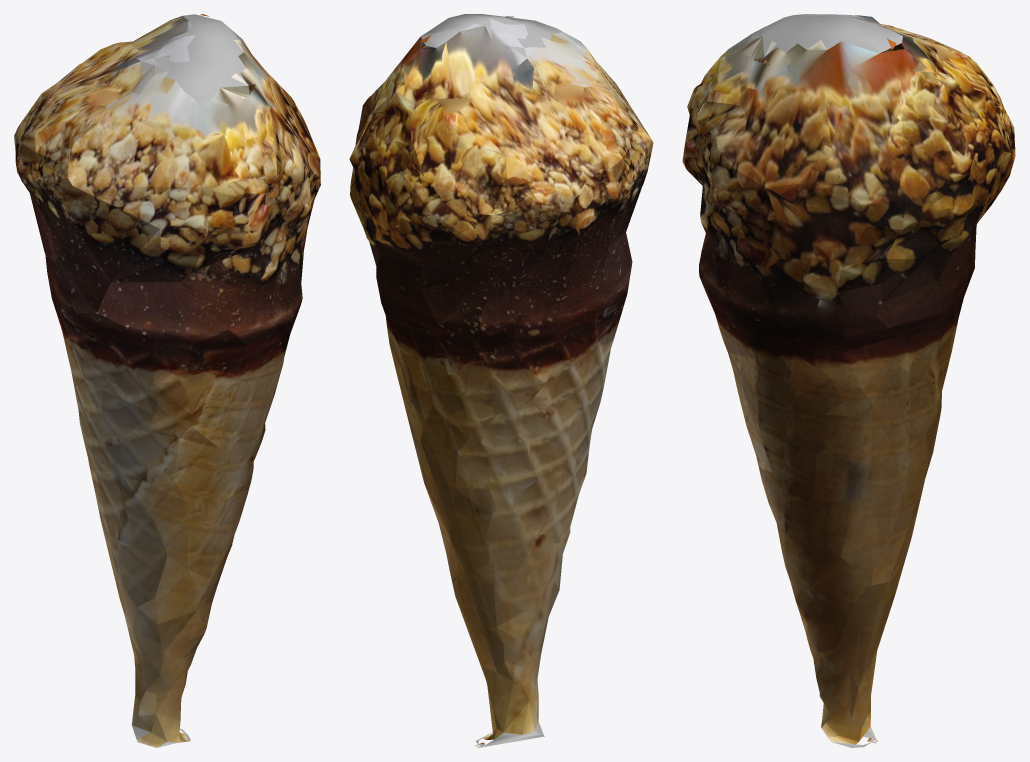
3 renders of one model, left to right at view 1: azimuth 30°, elevation 25°; view 2: azimuth 150°, elevation 25°; view 3: azimuth 270°, elevation 25°, orthographic. The views are drawn at different scales.
Parts seen in each view (by area): view 1: Object_2, Object_4, Object_3; view 2: Object_2, Object_4, Object_3, Object_5; view 3: Object_2, Object_4.
Boxes of the visible parts, <box> form: Object_2: <box>14,14,320,747</box>; Object_4: <box>142,14,248,101</box>; Object_3: <box>100,43,247,540</box>; Object_2: <box>349,18,653,747</box>; Object_4: <box>421,14,561,57</box>; Object_3: <box>396,16,590,606</box>; Object_5: <box>475,721,544,747</box>; Object_2: <box>682,14,1015,745</box>; Object_4: <box>753,14,902,56</box>.
Size of the model in its own units: 1.26 by 3.27 by 1.35.
5 materials, 2 textured.
